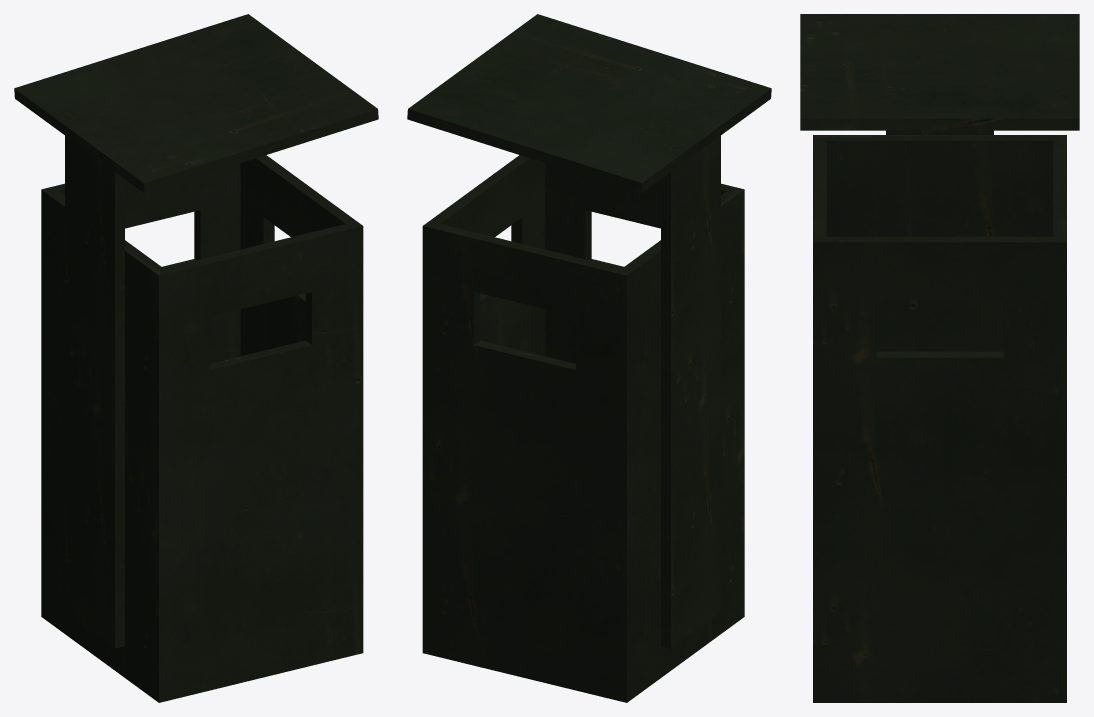
Rendered from Kos_B.fbx.
3 views of the same model, side by side, from view 1: azimuth 30°, elevation 25°; view 2: azimuth 150°, elevation 25°; view 3: azimuth 270°, elevation 25° (orthographic). The views are drawn at different scales.
Visible parts, largest first — view 1: Kos_B; view 2: Kos_B; view 3: Kos_B.
Part boxes in pixels (<box>): Kos_B: <box>14,14,378,702</box>; Kos_B: <box>407,14,771,702</box>; Kos_B: <box>800,14,1079,702</box>.
Size of the model in its own units: 46.03 by 102 by 44.
